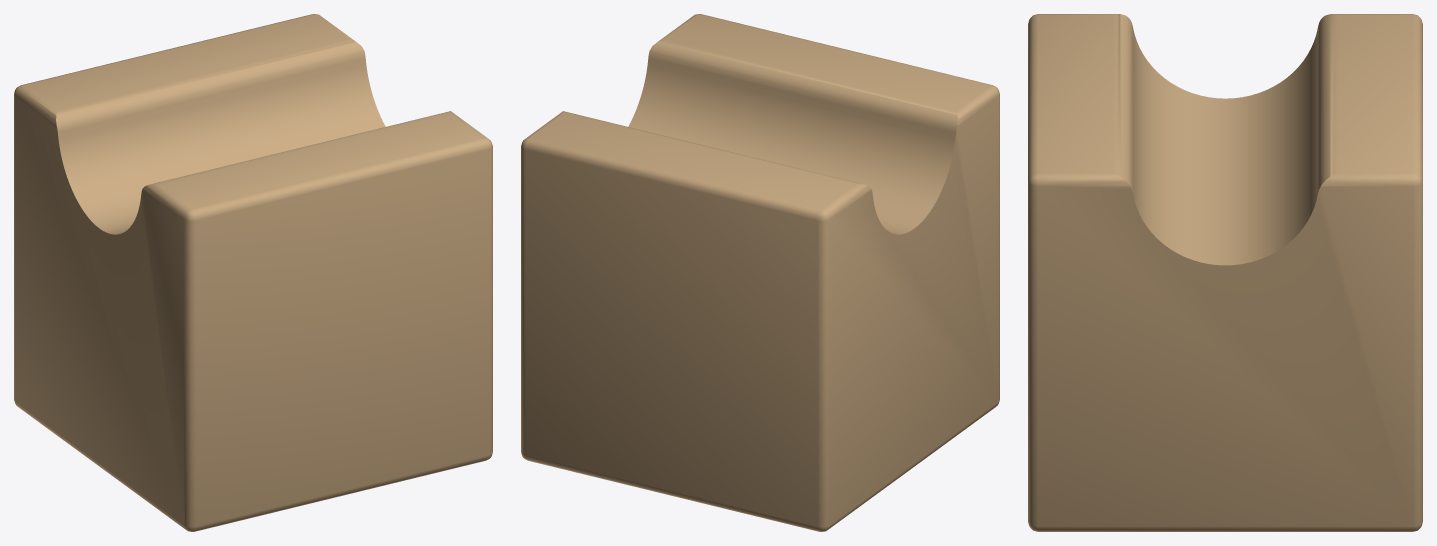
The model's file is blk_straight_l3.glb.
3 renders of one model, left to right at view 1: azimuth 30°, elevation 25°; view 2: azimuth 150°, elevation 25°; view 3: azimuth 270°, elevation 25°, orthographic. The views are drawn at different scales.
Visible parts, largest first — view 1: blk_straight_l3_lod0; view 2: blk_straight_l3_lod0; view 3: blk_straight_l3_lod0.
Boxes of the visible parts, left/top/right/bottom form: blk_straight_l3_lod0: left=14, top=14, right=492, bottom=531; blk_straight_l3_lod0: left=521, top=14, right=999, bottom=531; blk_straight_l3_lod0: left=1028, top=14, right=1422, bottom=531.
Size of what is drawn, in the model's own units: 0.059 by 0.059 by 0.059.
